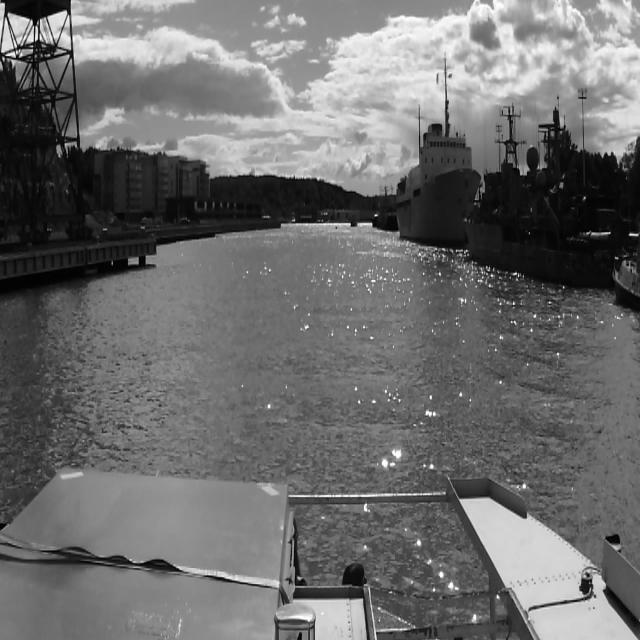ship: (470, 101, 602, 279), (392, 116, 480, 246), (375, 182, 393, 230)
